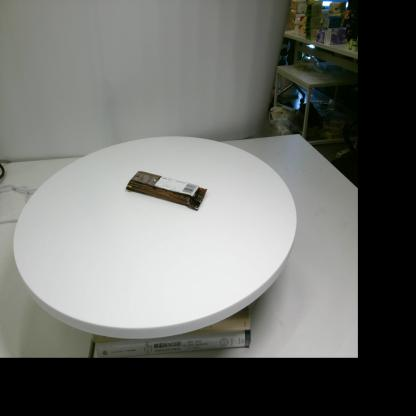Chocolate: (126, 171, 207, 211)
